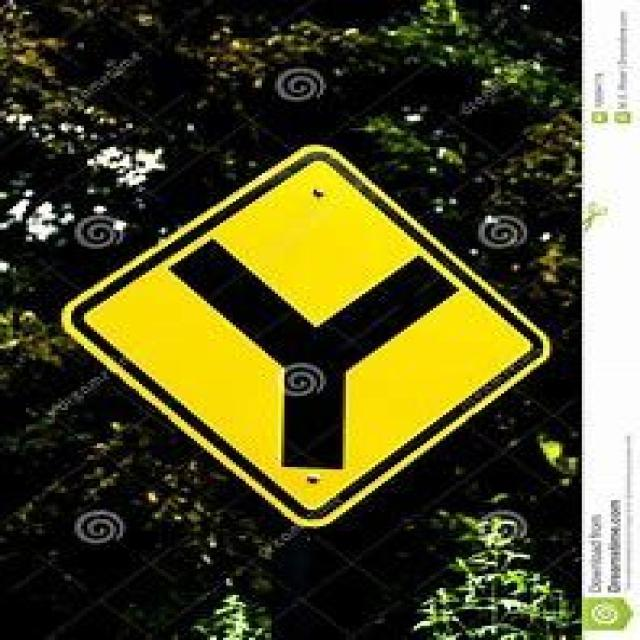y intersection: (60, 141, 553, 539)
